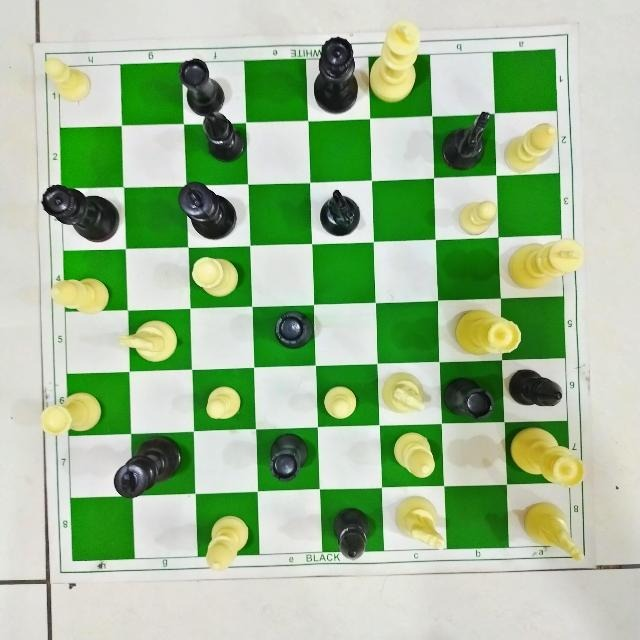black-bishop: (324, 496, 376, 571), (501, 362, 564, 418), (193, 108, 252, 166)
black-king: (107, 427, 191, 504), (173, 174, 240, 245)
black-knight: (438, 106, 501, 172), (311, 184, 365, 242)
black-queen: (39, 177, 123, 248), (309, 26, 361, 121)
black-rook: (173, 55, 234, 121), (441, 367, 499, 424), (261, 430, 315, 490), (270, 303, 317, 350)
white-bishop: (191, 507, 256, 582), (43, 269, 118, 321), (499, 117, 560, 176), (386, 427, 438, 483)
white-king: (500, 230, 589, 291), (365, 17, 427, 103)
white-knight: (518, 493, 589, 574), (387, 488, 449, 559), (380, 361, 434, 423), (116, 316, 182, 364)
white-pawn: (38, 50, 98, 108), (447, 193, 501, 240), (318, 376, 366, 424), (203, 381, 251, 426)
white-queen: (504, 420, 588, 493), (446, 303, 528, 359)
white-rook: (35, 377, 123, 444), (189, 250, 245, 304)
